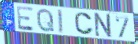7: (115, 15, 130, 40)
C: (74, 12, 95, 36)
E: (16, 5, 35, 32)
I: (57, 9, 65, 35)
N: (94, 12, 114, 39)
Q: (37, 8, 56, 33)
